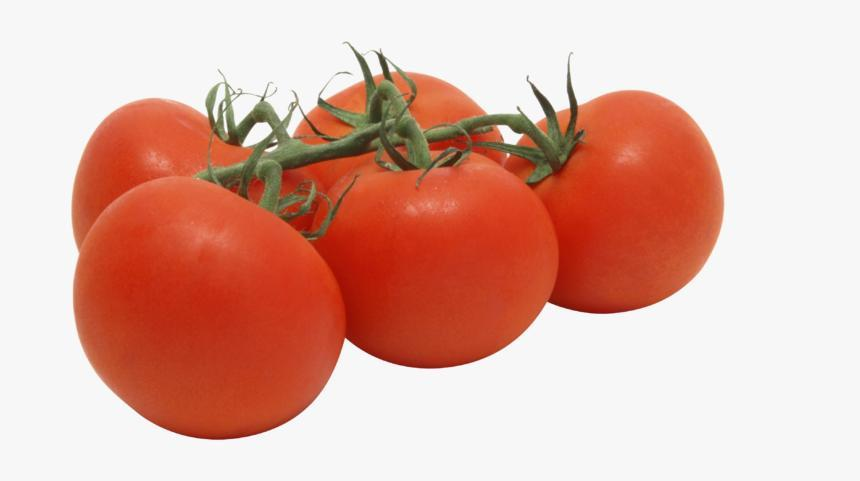healthy-tomato: (71, 163, 348, 443), (301, 154, 562, 372), (532, 90, 727, 316), (70, 99, 253, 245), (285, 68, 521, 170)
